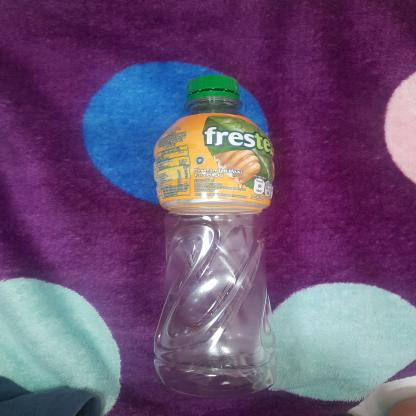plastic: (148, 69, 279, 395)
